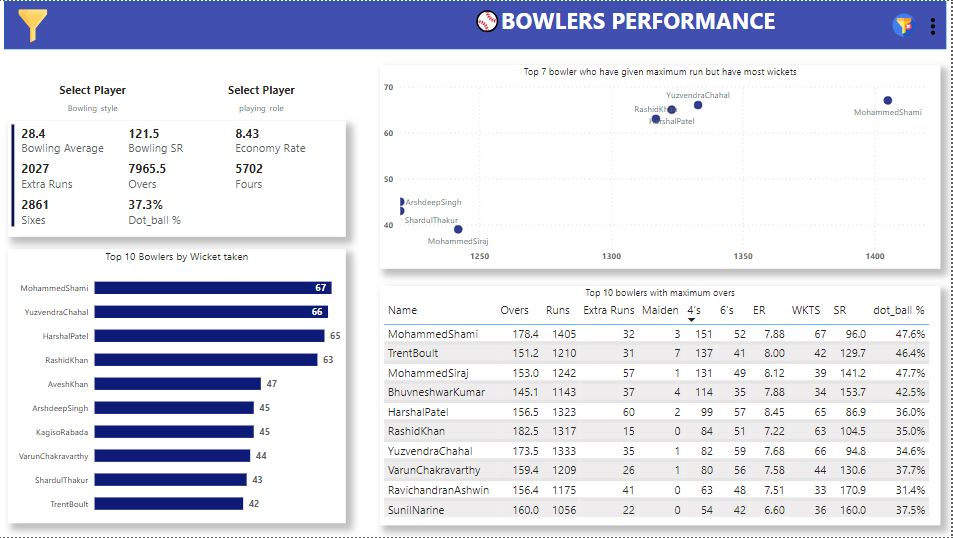

The dashboard page shown, as its layout file describes it:
{"tool":"powerbi","page":{"name":"Bowlers Performance","canvas":[1366,768],"ordinal":2},"visuals":[{"type":"shape","box":[9.2,0,1350.1,69.1],"z":0},{"type":"barChart","title":"Top 10 Bowlers by Wicket taken","fields":{"Category":["fact_bowling_summary.bowlerName"],"Y":["bowlers_measures.wicket_taken"]},"box":[13.8,354.8,483.8,393.2],"z":1000},{"type":"multiRowCard","fields":{"Values":["bowlers_measures.bowling_avg","bowlers_measures.bowling_strike_rate","bowlers_measures.economy_rate","bowlers_measures.extra_runs_given_by_bowler","bowlers_measures.total_overs","bowlers_measures.fours_on_bowling","bowlers_measures.sixes_on_bowling","bowlers_measures.dot_ball %"]},"box":[13.8,172,483.8,165.9],"z":2000},{"type":"scatterChart","title":"Top 7 bowler who have given maximum run but have most wickets","fields":{"Category":["fact_bowling_summary.bowlerName"],"X":["bowlers_measures.runs_given_by_bowler"],"Y":["bowlers_measures.wicket_taken"]},"box":[546.8,92.2,803.3,291.8],"z":3000},{"type":"image","box":[1276.4,0,43,69.1],"z":4000},{"type":"tableEx","title":"Top 10 bowlers with maximum overs","fields":{"Values":["fact_bowling_summary.bowlerName","bowlers_measures.total_overs","bowlers_measures.runs_given_by_bowler","bowlers_measures.extra_runs_given_by_bowler","bowlers_measures.maiden_overs","bowlers_measures.fours_on_bowling","bowlers_measures.sixes_on_bowling","bowlers_measures.economy_rate","bowlers_measures.wicket_taken","bowlers_measures.bowling_strike_rate","bowlers_measures.dot_ball %"]},"box":[546.8,408.6,803.3,342.5],"z":5000},{"type":"textbox","box":[665.1,0,465.4,70.7],"z":6000},{"type":"card","fields":{"Values":["bowlers_measures.playing_role"]},"box":[256.7,104.2,241.9,66.2],"z":7000},{"type":"card","fields":{"Values":["bowlers_measures.Bowling_style"]},"box":[13.8,104.4,242.7,66],"z":8000},{"type":"image","box":[1319.4,1.5,39.9,69.1],"z":9000},{"type":"image","box":[21.5,0,56.8,70.7],"z":11000}]}

Visuals, with their boxes in screenshot pixels (x1, y1, x2, y2), scaled from the page's 1366x768 canvas onto the 953x538 screenshot:
shape: 6 0 948 48
"Top 10 Bowlers by Wicket taken" barChart: 10 249 347 524
multiRowCard - bowlers_measures.bowling_avg x bowlers_measures.bowling_strike_rate: 10 120 347 237
"Top 7 bowler who have given maximum run but have most wickets" scatterChart: 381 65 942 269
image: 890 0 920 48
"Top 10 bowlers with maximum overs" tableEx: 381 286 942 526
textbox: 464 0 789 50
card - bowlers_measures.playing_role: 179 73 348 119
card - bowlers_measures.Bowling_style: 10 73 179 119
image: 920 1 948 49
image: 15 0 55 50
